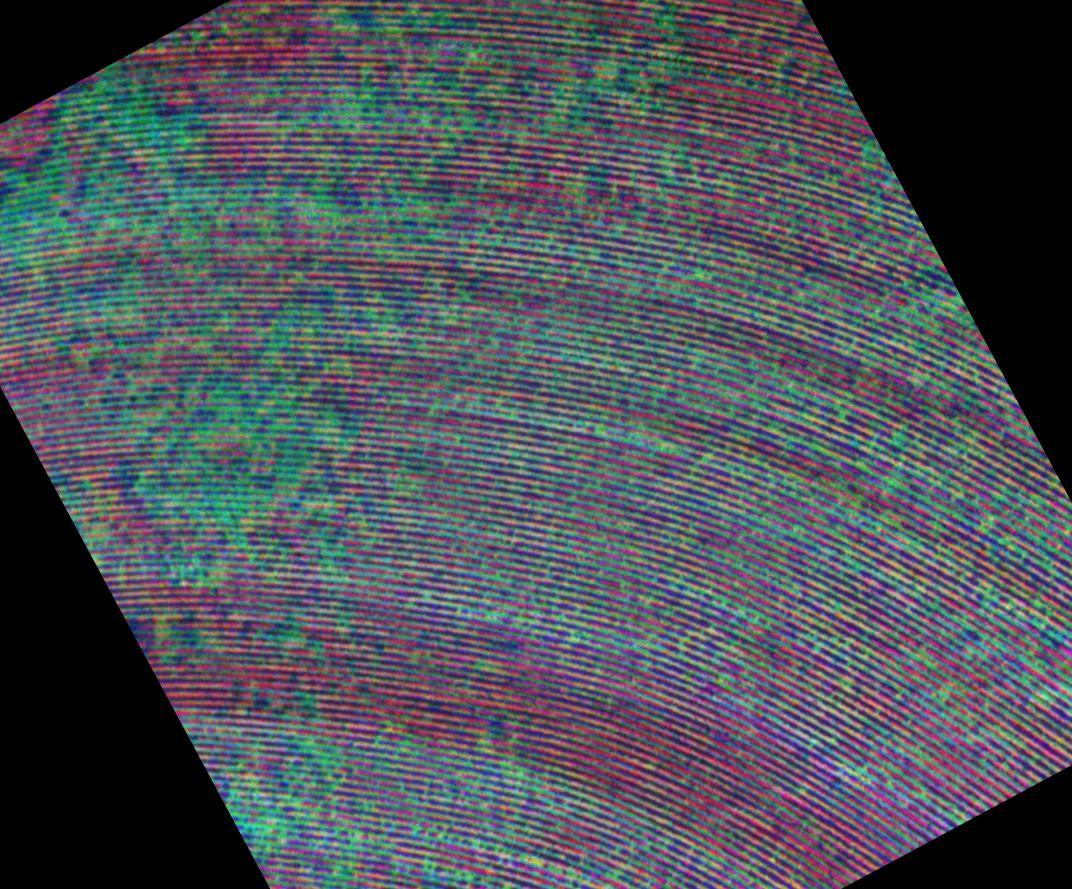dc: (16, 183, 100, 271), (78, 78, 158, 149), (158, 470, 232, 543), (226, 783, 296, 860), (193, 388, 256, 448), (333, 88, 390, 149)
